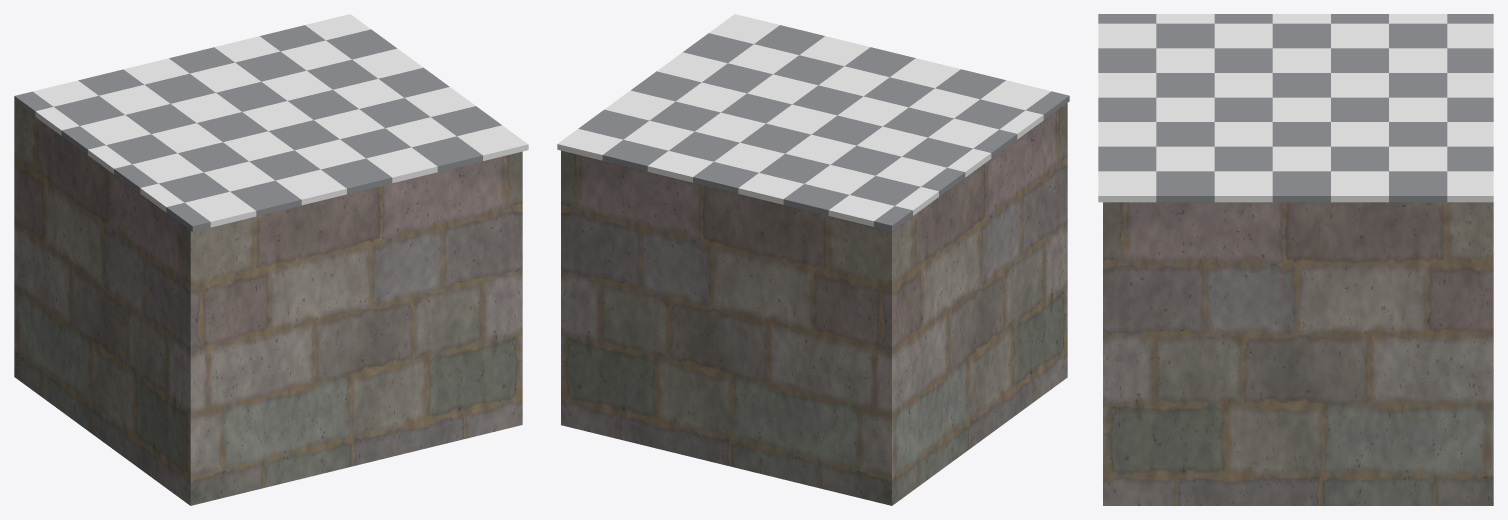
The model's file is floor_tile_g_e15_0_30_0.glb.
3 renders of one model, left to right at view 1: azimuth 30°, elevation 25°; view 2: azimuth 150°, elevation 25°; view 3: azimuth 270°, elevation 25°, orthographic. The views are drawn at different scales.
Parts seen in each view (by area): view 1: floor_tile_g_e15_0_30_0_plinth, floor_tile_g_e15_0_30_0_tile, floor_tile_g_e15_0_30_0_slate; view 2: floor_tile_g_e15_0_30_0_plinth, floor_tile_g_e15_0_30_0_tile, floor_tile_g_e15_0_30_0_slate; view 3: floor_tile_g_e15_0_30_0_plinth, floor_tile_g_e15_0_30_0_tile, floor_tile_g_e15_0_30_0_slate.
Boxes of the visible parts, left/top/right/bottom form: floor_tile_g_e15_0_30_0_plinth: left=14, top=102, right=522, bottom=505; floor_tile_g_e15_0_30_0_tile: left=33, top=14, right=528, bottom=227; floor_tile_g_e15_0_30_0_slate: left=14, top=25, right=501, bottom=231; floor_tile_g_e15_0_30_0_plinth: left=561, top=103, right=1067, bottom=505; floor_tile_g_e15_0_30_0_tile: left=557, top=14, right=1051, bottom=226; floor_tile_g_e15_0_30_0_slate: left=578, top=25, right=1069, bottom=231; floor_tile_g_e15_0_30_0_plinth: left=1103, top=202, right=1493, bottom=505; floor_tile_g_e15_0_30_0_tile: left=1098, top=14, right=1493, bottom=202; floor_tile_g_e15_0_30_0_slate: left=1098, top=14, right=1493, bottom=202.
Size of the model in its own units: 1.85 by 1.48 by 1.7.
3 materials, 1 textured.
